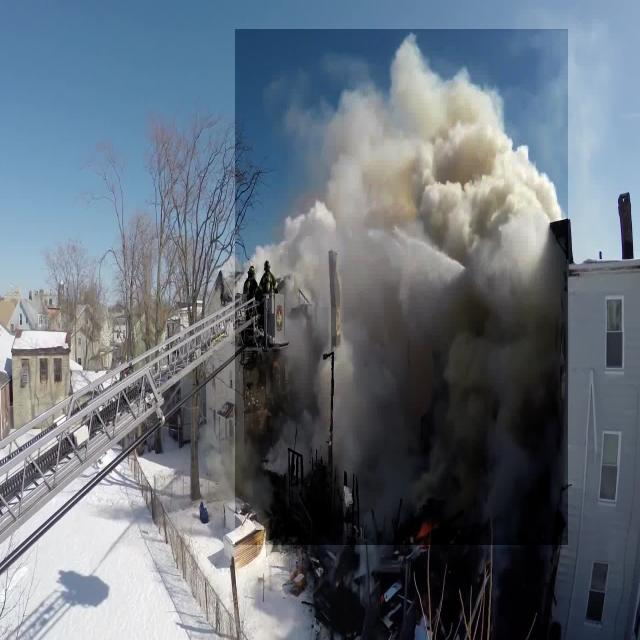Smoke: (235, 29, 568, 546)
